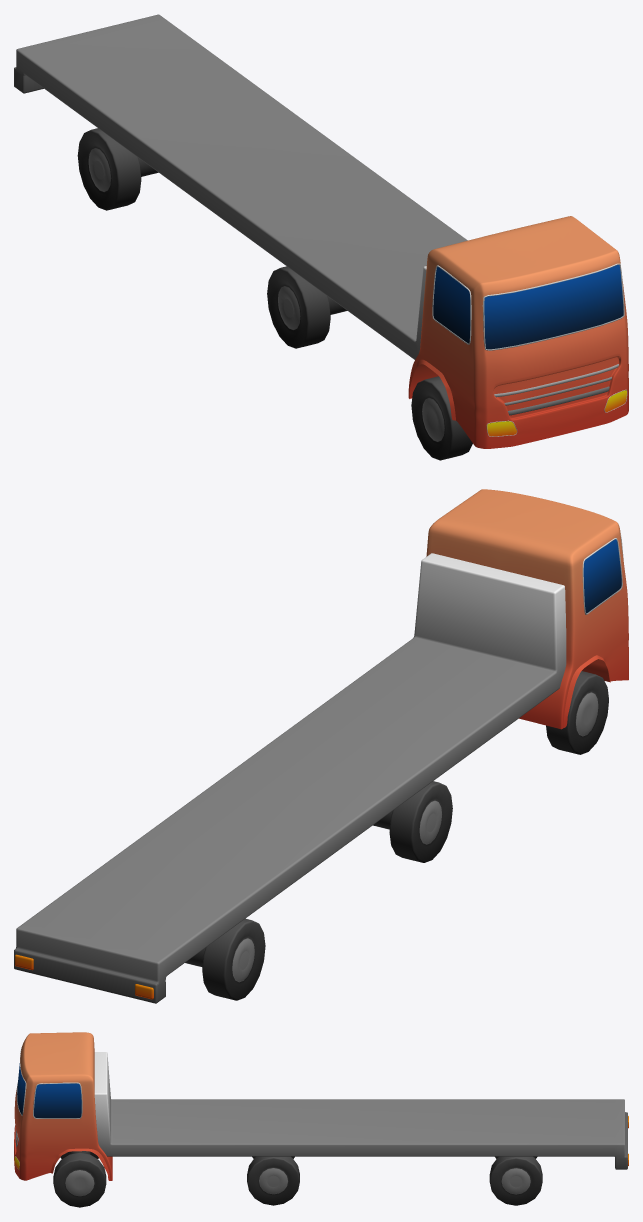
The model's file is tır.fbx.
The picture shows the model from 3 angles, top to bottom: view 1: azimuth 30°, elevation 25°; view 2: azimuth 150°, elevation 25°; view 3: azimuth 270°, elevation 25°; orthographic projection. The views are drawn at different scales.
Parts seen in each view (by area): view 1: Cube.006, Cylinder.004, Cylinder.003, Cylinder.002; view 2: Cube.006, Cylinder.004, Cylinder.003, Cylinder.002; view 3: Cube.006, Cylinder.002, Cylinder.004, Cylinder.003.
Part boxes in pixels (x1=…): Cube.006: x1=14, y1=14, x2=628, y2=448; Cylinder.004: x1=77, y1=128, x2=158, y2=210; Cylinder.003: x1=267, y1=266, x2=347, y2=348; Cylinder.002: x1=411, y1=376, x2=472, y2=460; Cube.006: x1=14, y1=489, x2=628, y2=1003; Cylinder.004: x1=185, y1=918, x2=265, y2=1000; Cylinder.003: x1=373, y1=781, x2=452, y2=862; Cylinder.002: x1=546, y1=671, x2=608, y2=754; Cube.006: x1=14, y1=1032, x2=628, y2=1180; Cylinder.002: x1=53, y1=1151, x2=106, y2=1207; Cylinder.004: x1=489, y1=1156, x2=542, y2=1205; Cylinder.003: x1=247, y1=1156, x2=299, y2=1205.
Bounding box in the file's own units: 4.37 × 5.35 × 22.84.
1 material, 1 textured.
